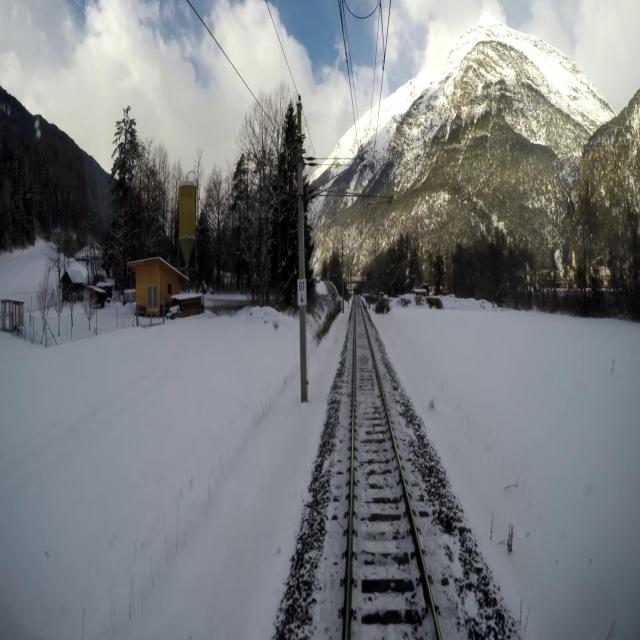rail-track: (349, 296, 437, 639)
